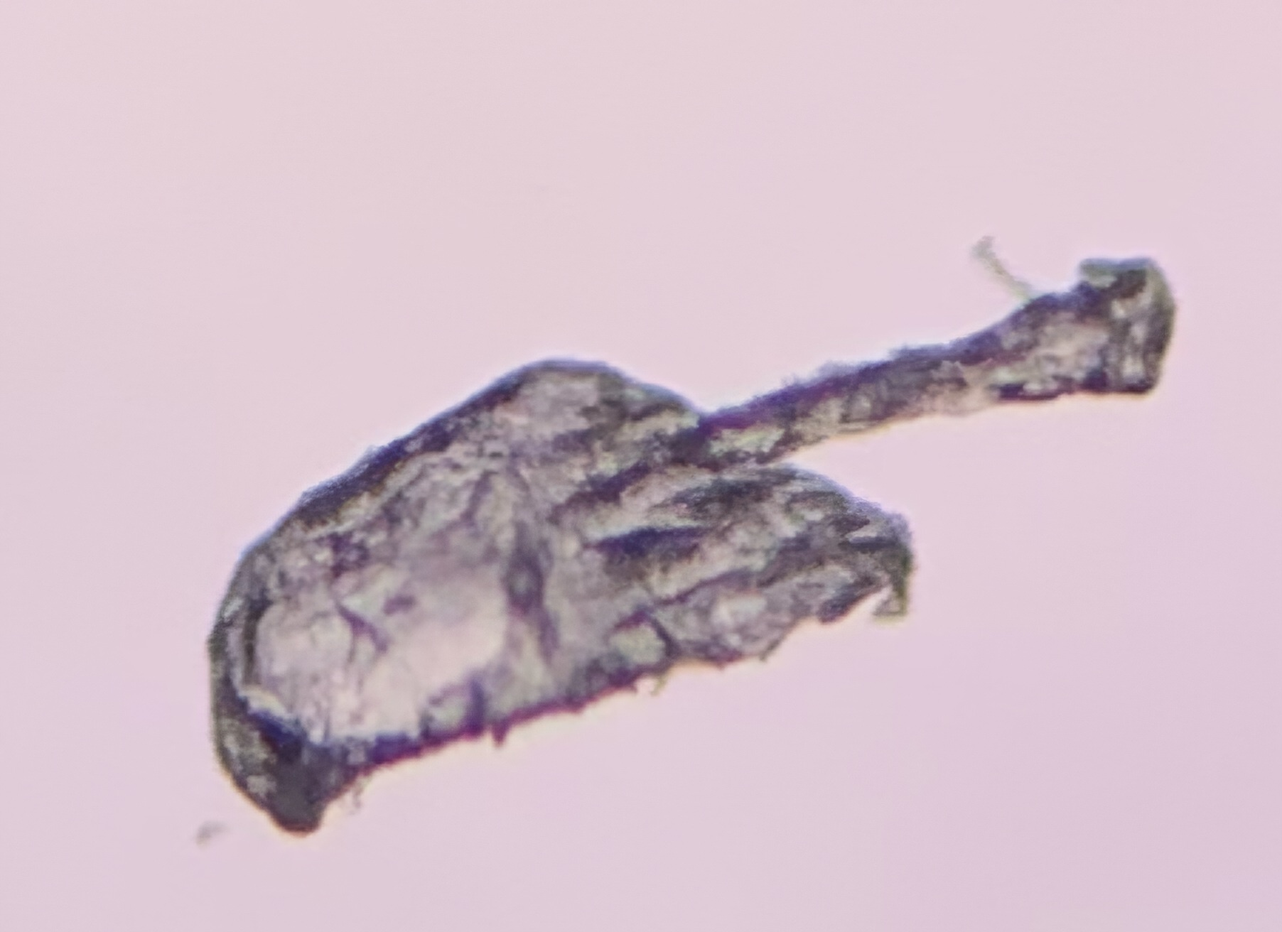microplastic: (205, 234, 1178, 833)
